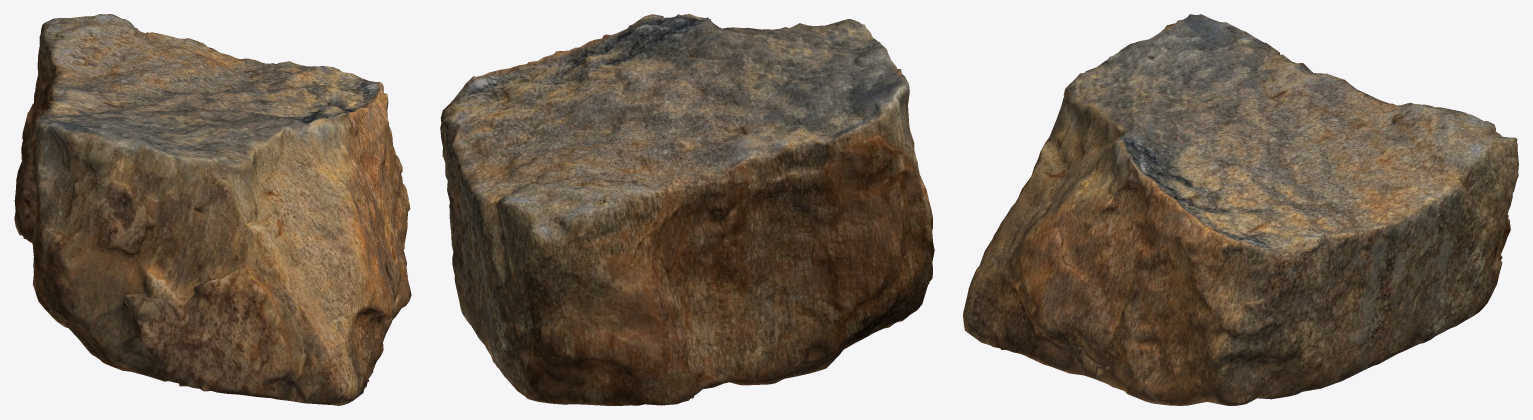
The model's file is namaqualand_boulder_03.glb.
The picture shows the model from 3 angles, left to right: view 1: azimuth 30°, elevation 25°; view 2: azimuth 150°, elevation 25°; view 3: azimuth 270°, elevation 25°; orthographic projection. The views are drawn at different scales.
Parts seen in each view (by area): view 1: boulder_03_LOD0; view 2: boulder_03_LOD0; view 3: boulder_03_LOD0.
Part boxes in pixels (left/top/right/bottom): boulder_03_LOD0: left=14, top=14, right=411, bottom=405; boulder_03_LOD0: left=440, top=14, right=934, bottom=405; boulder_03_LOD0: left=963, top=14, right=1518, bottom=405.
Size of the model in its own units: 2.4 by 1.47 by 3.06.
1 material, 1 textured.
